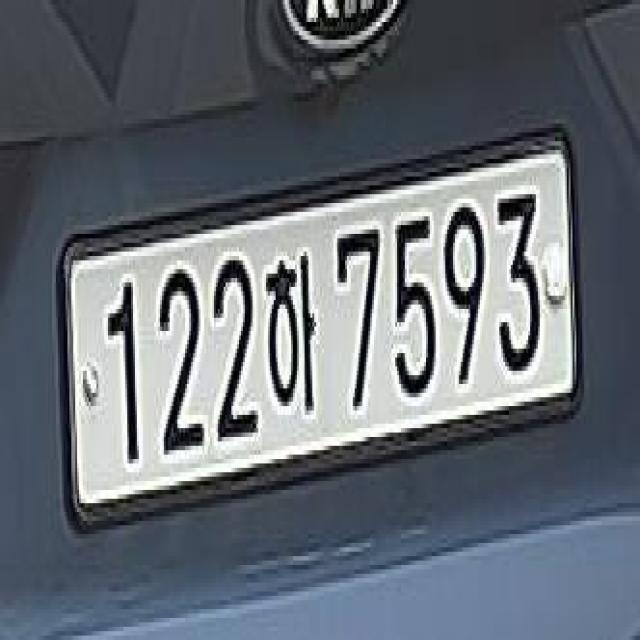illegal_plate: (60, 138, 577, 534)
